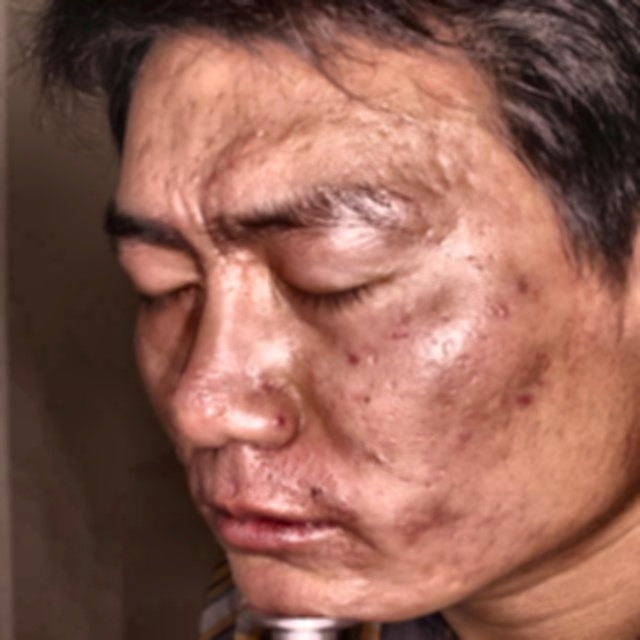comedone: (490, 288, 522, 323), (509, 380, 539, 405)
